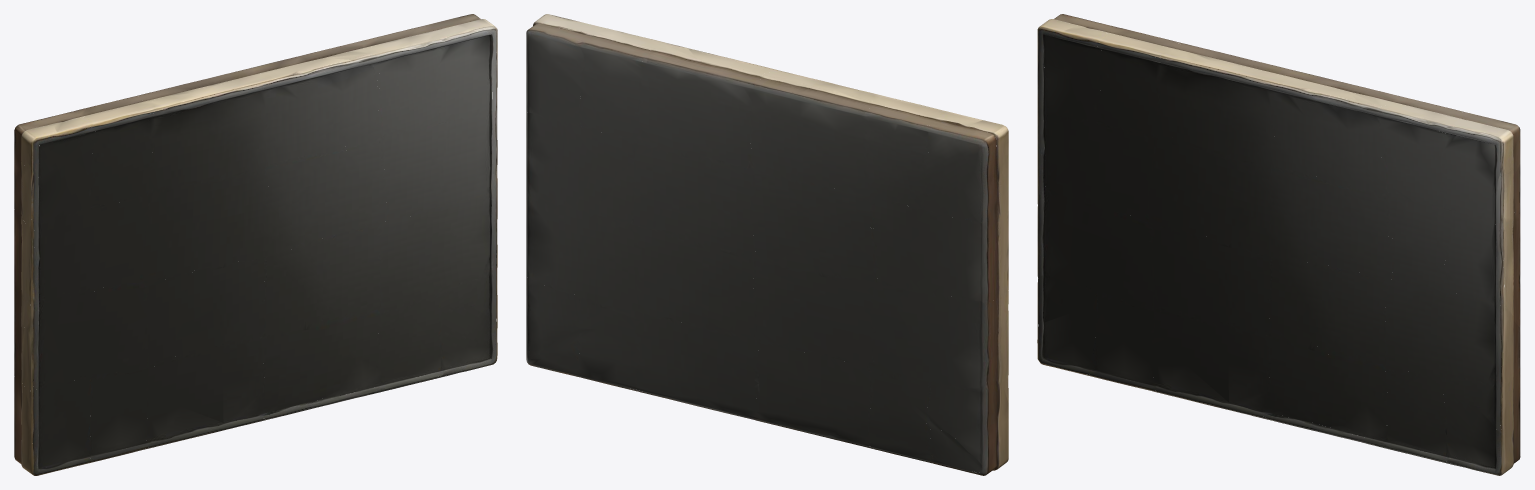
File: frameless-display.glb
3 views of the same model, side by side, from view 1: azimuth 30°, elevation 25°; view 2: azimuth 150°, elevation 25°; view 3: azimuth 330°, elevation 25° (orthographic).
Visible parts, largest first — view 1: tripo_node_a23a1ab7-8ed2-4846-9e35-493bcb67f321; view 2: tripo_node_a23a1ab7-8ed2-4846-9e35-493bcb67f321; view 3: tripo_node_a23a1ab7-8ed2-4846-9e35-493bcb67f321.
Boxes of the visible parts, left/top/right/bottom form: tripo_node_a23a1ab7-8ed2-4846-9e35-493bcb67f321: left=14, top=14, right=497, bottom=475; tripo_node_a23a1ab7-8ed2-4846-9e35-493bcb67f321: left=526, top=14, right=1008, bottom=475; tripo_node_a23a1ab7-8ed2-4846-9e35-493bcb67f321: left=1037, top=14, right=1520, bottom=475.
Bounding box in the file's own units: 2.2 × 1.53 × 0.1904.
1 material, 1 textured.
